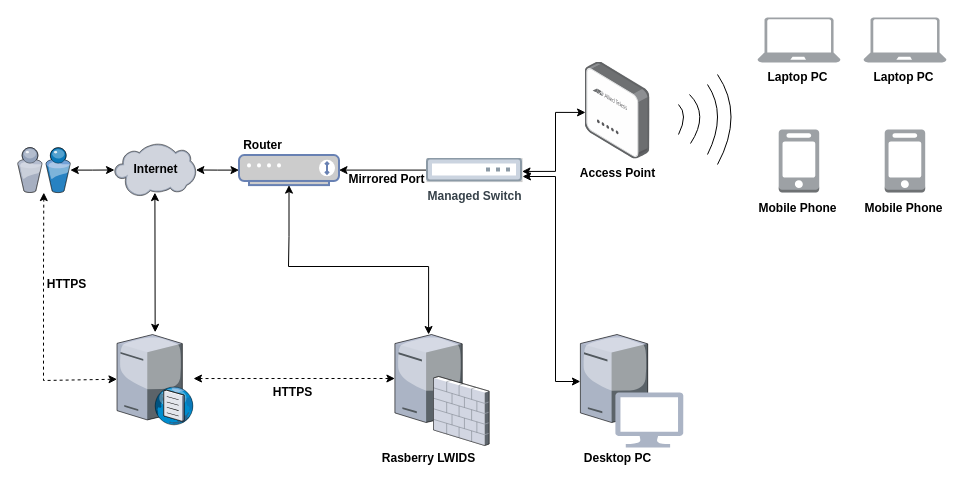
Image size: 970x488. Some labels were removed from this diagram. Each missing label, with the centre of its shape:
"Monitor port" goes at (x=289, y=170).
"Telegram Server" goes at (x=154, y=378).
